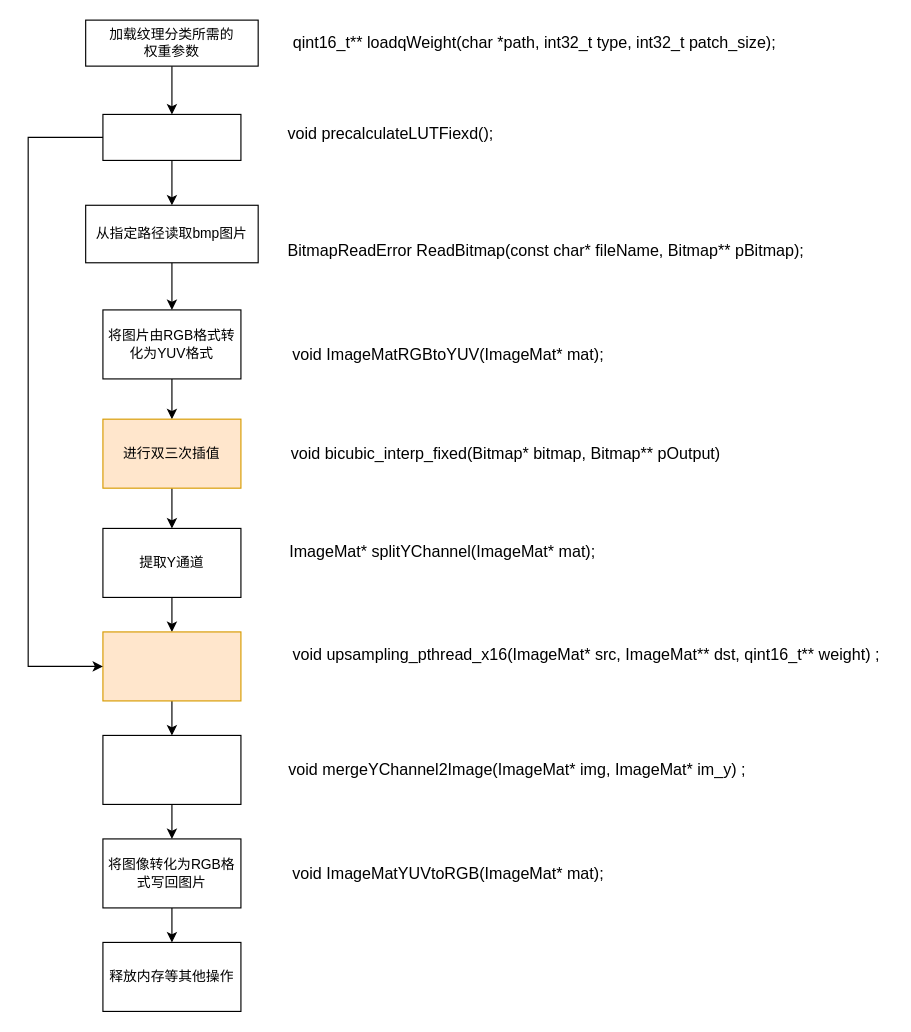
The diagram is 911 pixels wide and 1032 high, and some of its shapes have lost their labels. The centre of each missing label's shape, as x and y in pixels:
合并Y通道数据: the point at 171,769
纹理分类后卷积输出（16线程并行）: the point at 171,666
计算纹理分类所需 系数: the point at 171,136
